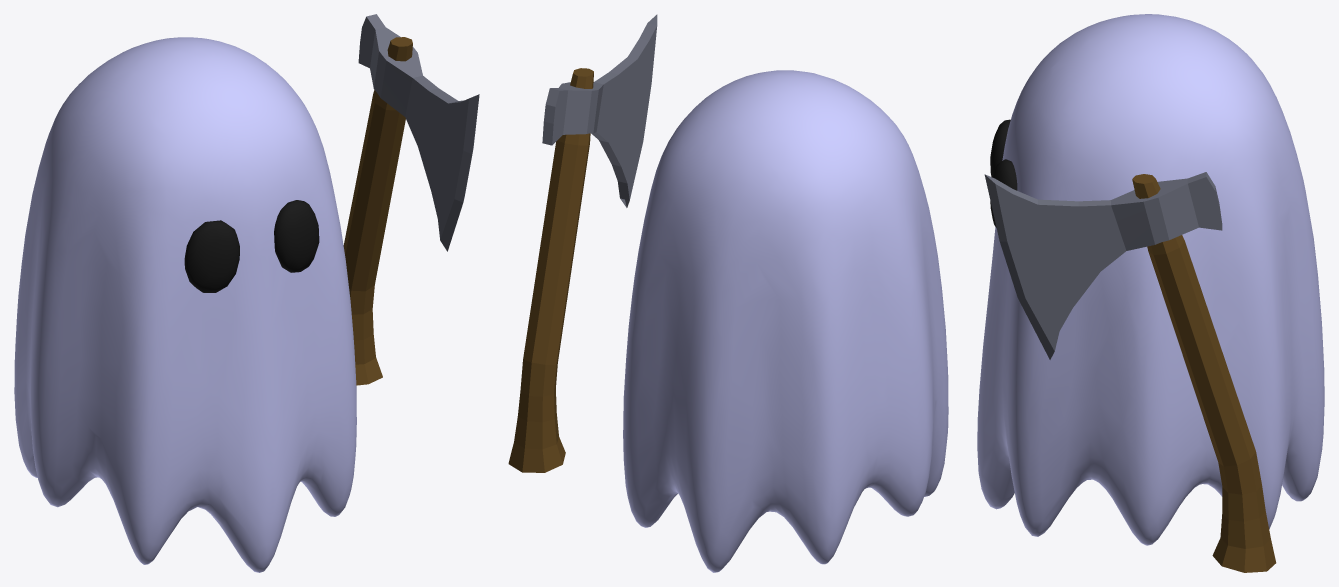
File: ghostAxe2.fbx
The picture shows the model from 3 angles, left to right: view 1: azimuth 30°, elevation 25°; view 2: azimuth 150°, elevation 25°; view 3: azimuth 270°, elevation 25°; orthographic projection. The views are drawn at different scales.
Parts seen in each view (by area): view 1: Ghost, Axe; view 2: Ghost, Axe; view 3: Ghost, Axe.
Part boxes in pixels (box(x1,y1,x2,y2)): Ghost: box(14, 37, 356, 572); Axe: box(343, 14, 479, 385); Ghost: box(623, 70, 948, 572); Axe: box(508, 14, 657, 472); Ghost: box(977, 14, 1324, 545); Axe: box(984, 172, 1276, 572).
Bounding box in the file's own units: 122 × 139 × 91.02.
